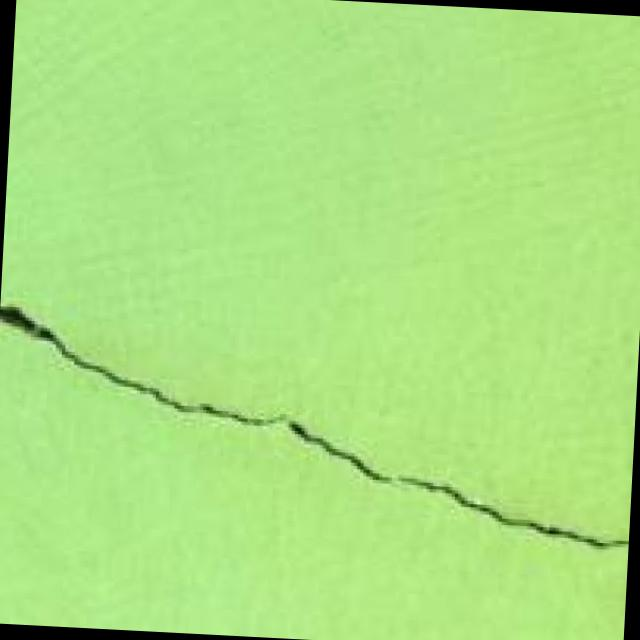crack: (0, 278, 640, 608)
